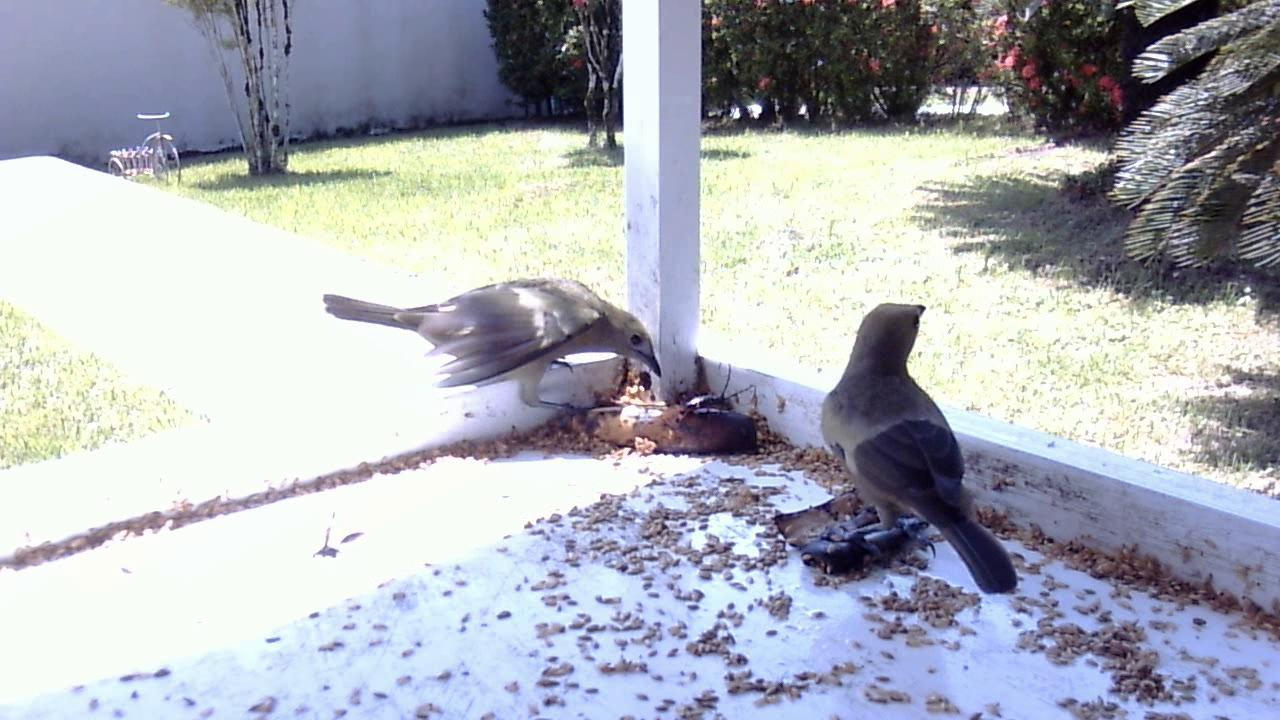sanhaco_do_coqueiro: (781, 296, 1023, 600), (315, 263, 663, 441)
